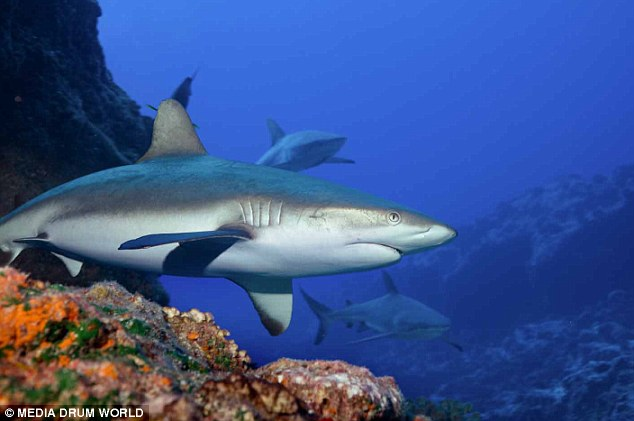shark: (1, 111, 466, 335)
